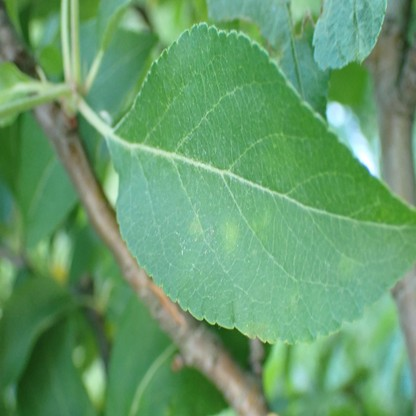scab: (252, 214, 270, 243), (220, 221, 237, 251), (338, 256, 355, 284), (244, 320, 268, 339), (189, 219, 200, 236)
